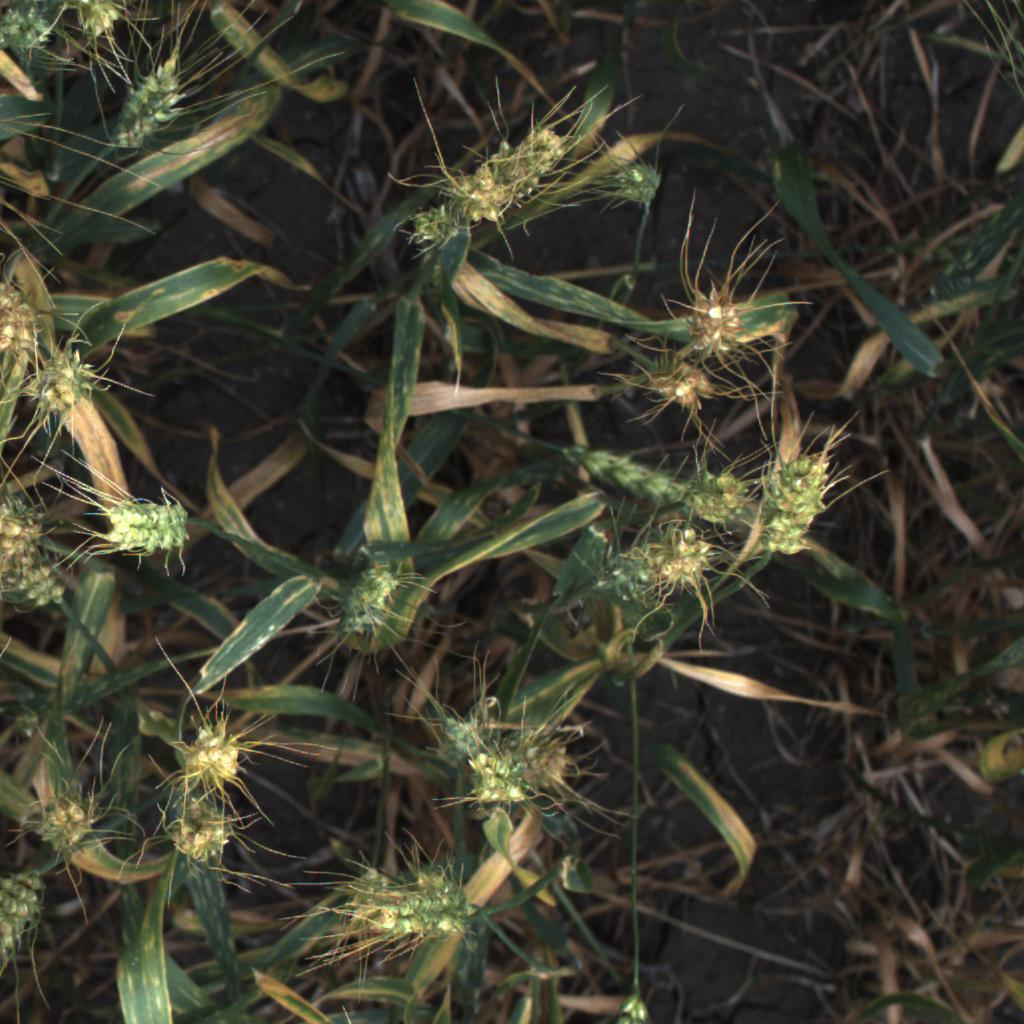0-0: (406, 116, 571, 247), (594, 524, 730, 616), (554, 428, 704, 510), (316, 552, 423, 658), (756, 440, 837, 572), (666, 272, 763, 375), (13, 320, 106, 426), (90, 485, 207, 567), (104, 53, 185, 159), (165, 707, 258, 793), (633, 346, 729, 419), (0, 259, 59, 372), (343, 861, 461, 916), (0, 862, 52, 982), (157, 799, 245, 868), (347, 901, 478, 945), (1, 527, 71, 609), (25, 786, 101, 856), (433, 698, 501, 774), (688, 457, 752, 529), (456, 762, 537, 814), (0, 489, 64, 551), (612, 153, 672, 214), (2, 2, 54, 56), (601, 984, 668, 1024), (72, 0, 128, 44)
